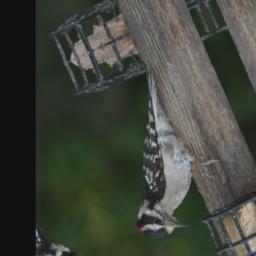Woodpecker: (81, 54, 238, 247)
